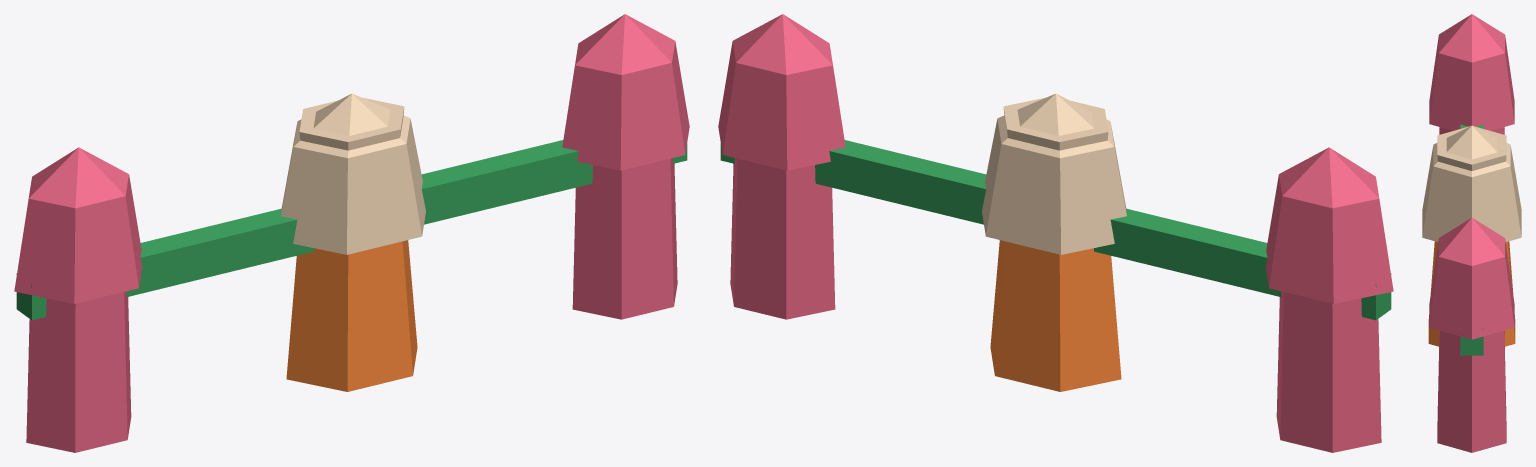
File: env_r15_reef_fence.glb
3 renders of one model, left to right at view 1: azimuth 30°, elevation 25°; view 2: azimuth 150°, elevation 25°; view 3: azimuth 270°, elevation 25°, orthographic. The views are drawn at different scales.
Visible parts, largest first — view 1: env_r15_reef_fence; view 2: env_r15_reef_fence; view 3: env_r15_reef_fence.
Boxes of the visible parts, x1,y1,x2,y2 form: env_r15_reef_fence: (14, 14, 689, 452); env_r15_reef_fence: (718, 14, 1393, 452); env_r15_reef_fence: (1422, 14, 1521, 452).
Bounding box in the file's own units: 3 × 1.2 × 0.5.
Materials: 1 (1 with a texture image).
